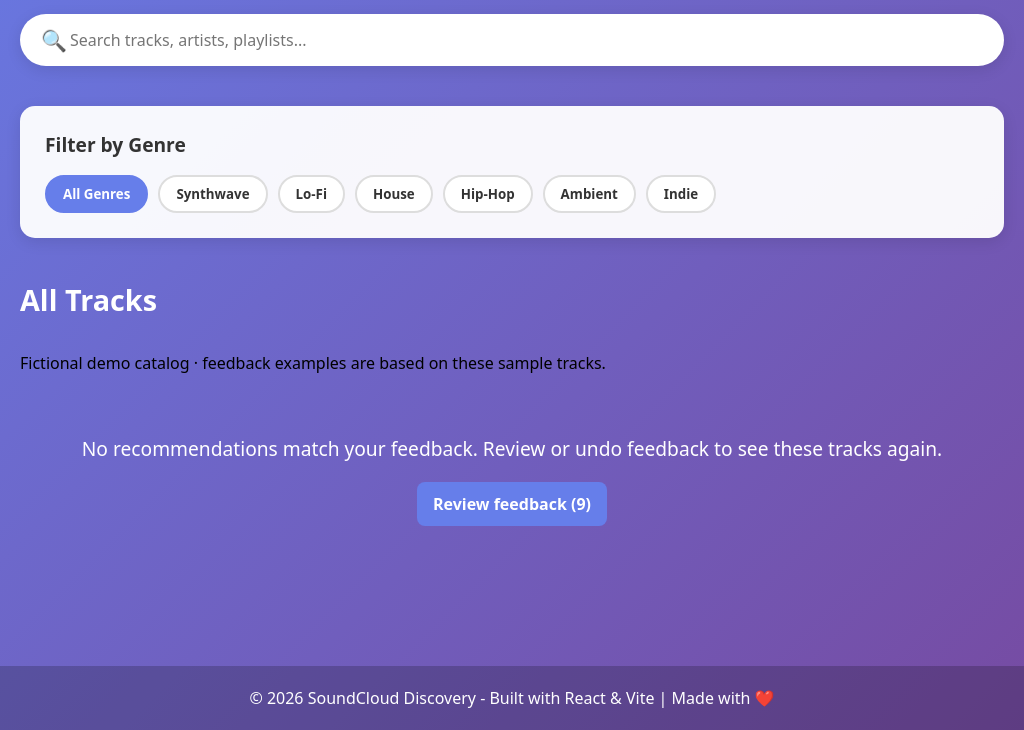
SoundCloud Discovery user flows › offers a direct way to review feedback when it excludes every recommendation
(page scrolled)
Expected: the text "No recommendations match your feedback. Review or undo feedback to see these tracks again." is shown, [82,435,942,462]
Click the button "Review feedback (9)". click: (512,504)
box: [417,482,607,526]
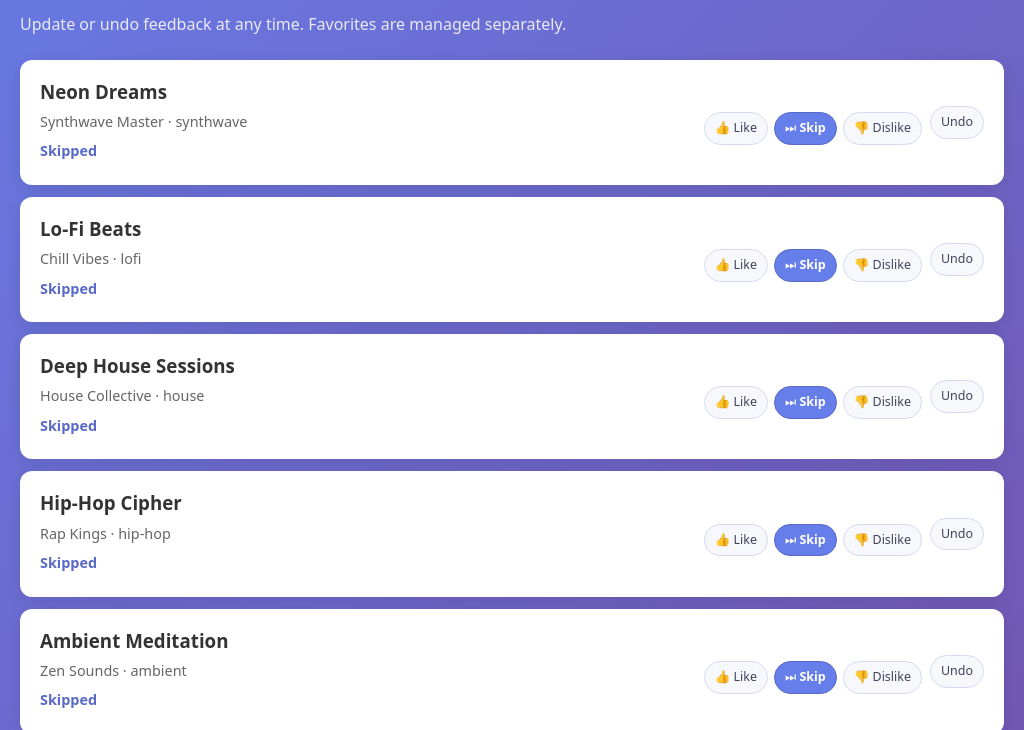
Result: the button with aria-label "Undo feedback for Neon Dreams" is shown at [930,106,984,139]
